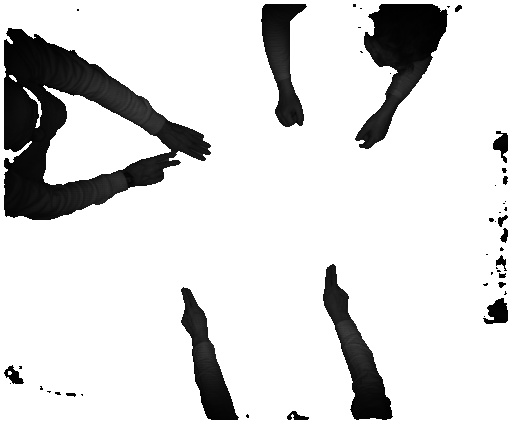fist: (272, 91, 303, 127)
hand: (162, 112, 214, 163), (176, 280, 210, 340), (131, 152, 183, 191), (352, 112, 395, 151), (320, 264, 351, 318)
